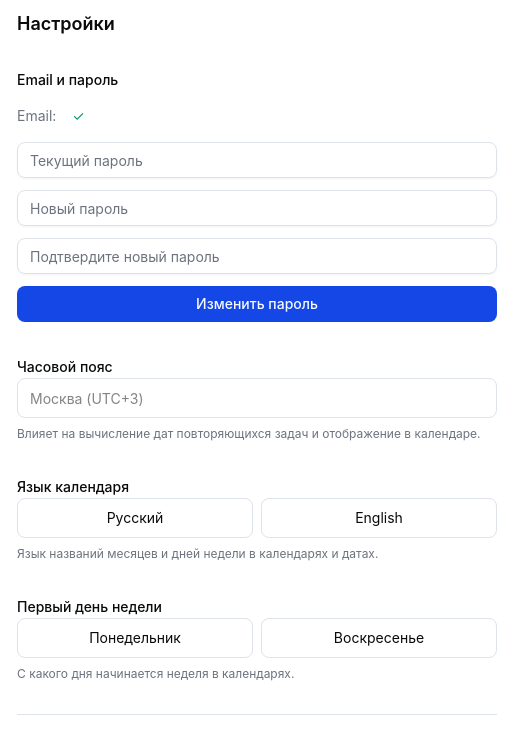
Test: settingsView — выбор часового пояса › находит зону Аргентины через полный список IANA (регрессия: раньше её не было)
The image size is (515, 742).
Type "buenos" into the field with placeholder "Москва (UTC+3)". click: (257, 398)
box: [17, 378, 497, 418]
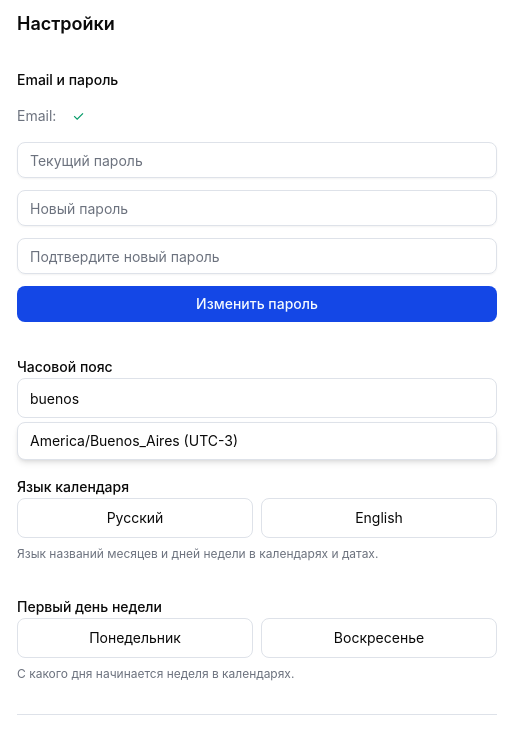
expect the text "Buenos_Aires (UTC-3)" is shown: met, box [18, 423, 496, 459]
